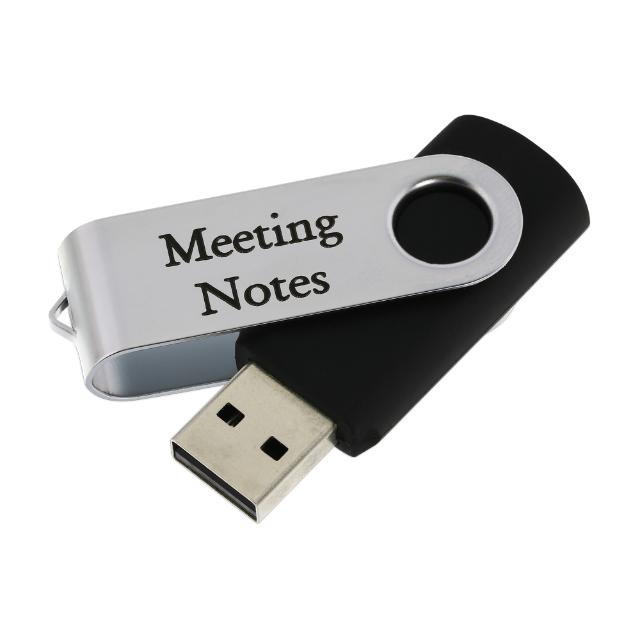USB-Flash-Drive: (26, 99, 598, 551)
